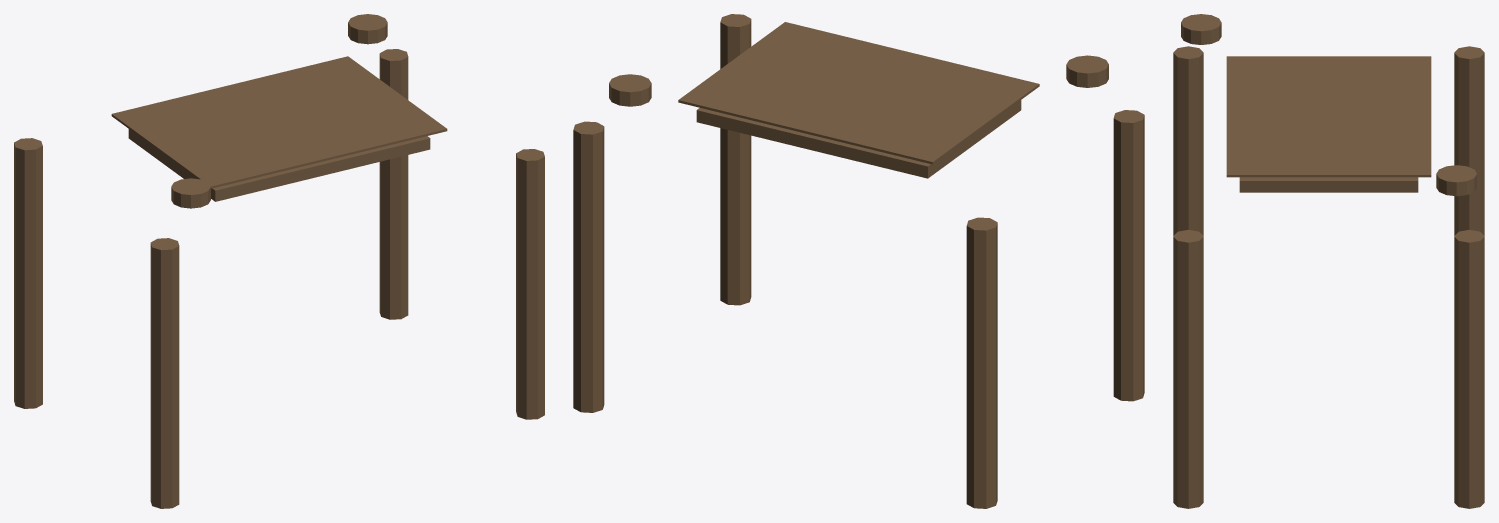
Rendered from map_table.glb.
3 views of the same model, side by side, from view 1: azimuth 30°, elevation 25°; view 2: azimuth 150°, elevation 25°; view 3: azimuth 270°, elevation 25° (orthographic). The views are drawn at different scales.
Parts seen in each view (by area): view 1: map_table; view 2: map_table; view 3: map_table.
Boxes of the visible parts, x1=… form: map_table: x1=14, y1=14, x2=544, y2=508; map_table: x1=573, y1=14, x2=1144, y2=508; map_table: x1=1173, y1=14, x2=1484, y2=508.
Size of the model in its own units: 0.182 by 0.135 by 0.122.
